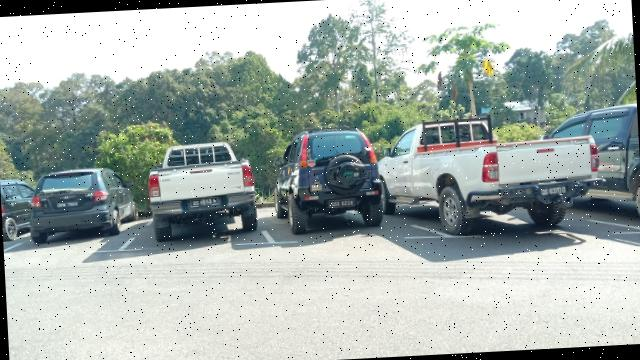License_Plate: (191, 198, 220, 209), (542, 187, 568, 197), (54, 202, 83, 210), (331, 200, 356, 209)
car: (377, 113, 606, 239), (270, 126, 392, 239), (146, 138, 262, 242), (26, 165, 139, 246)
